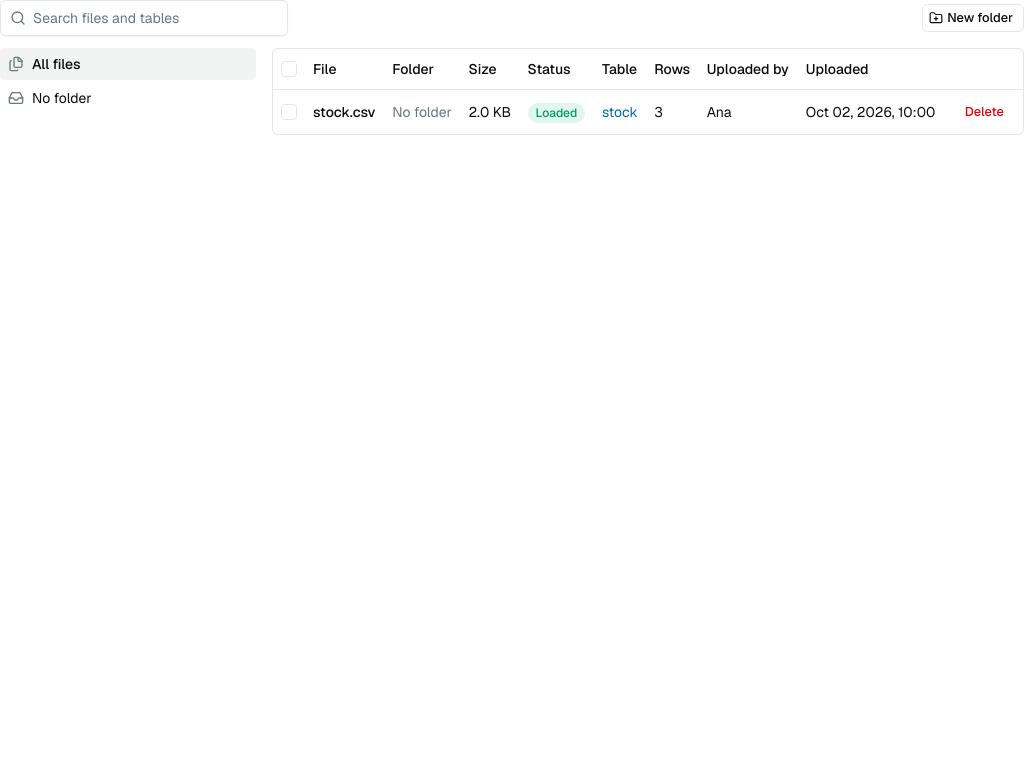
Test: UploadsPanel › asks first, says the table stays, and deletes only after the confirmation
The image size is (1024, 768).
Check: the text "stock.csv" is shown, box [305, 89, 384, 134]
Click the button with aria-label "Delete stock.csv": (984, 112) [954, 98, 1015, 126]
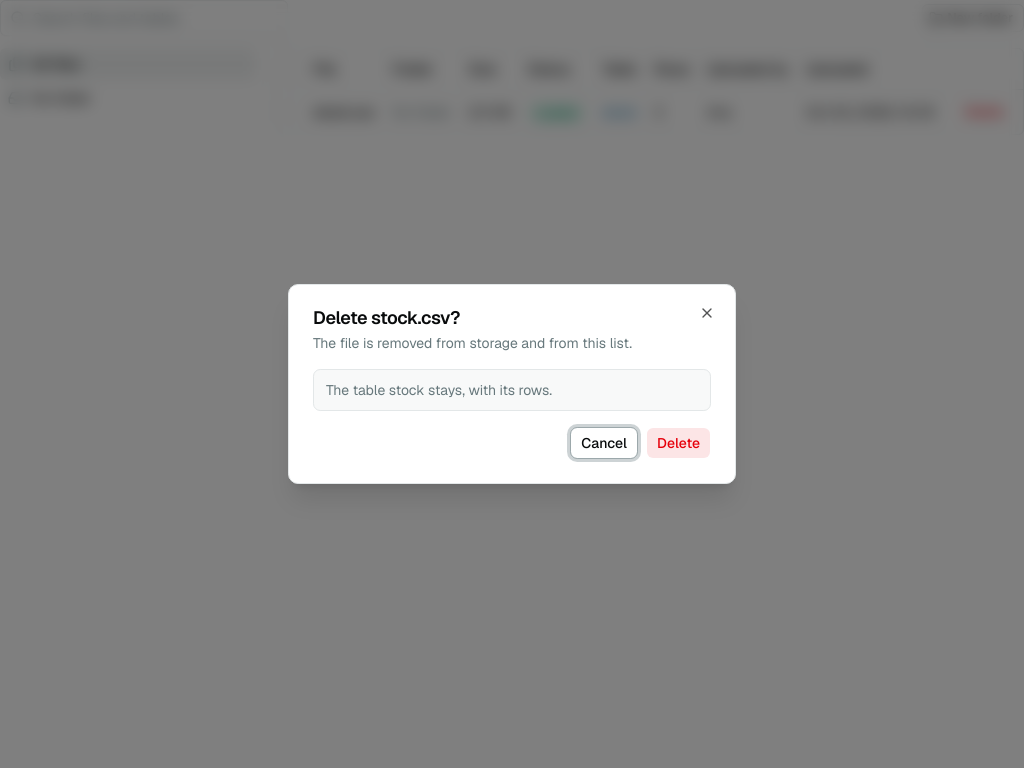
Check: the heading "Delete stock.csv?" is shown, box [313, 306, 460, 329]
Check: the text "The table stock stays, with its rows." is shown, box [313, 369, 711, 411]
Click the button "Delete": (678, 443) [646, 427, 711, 459]
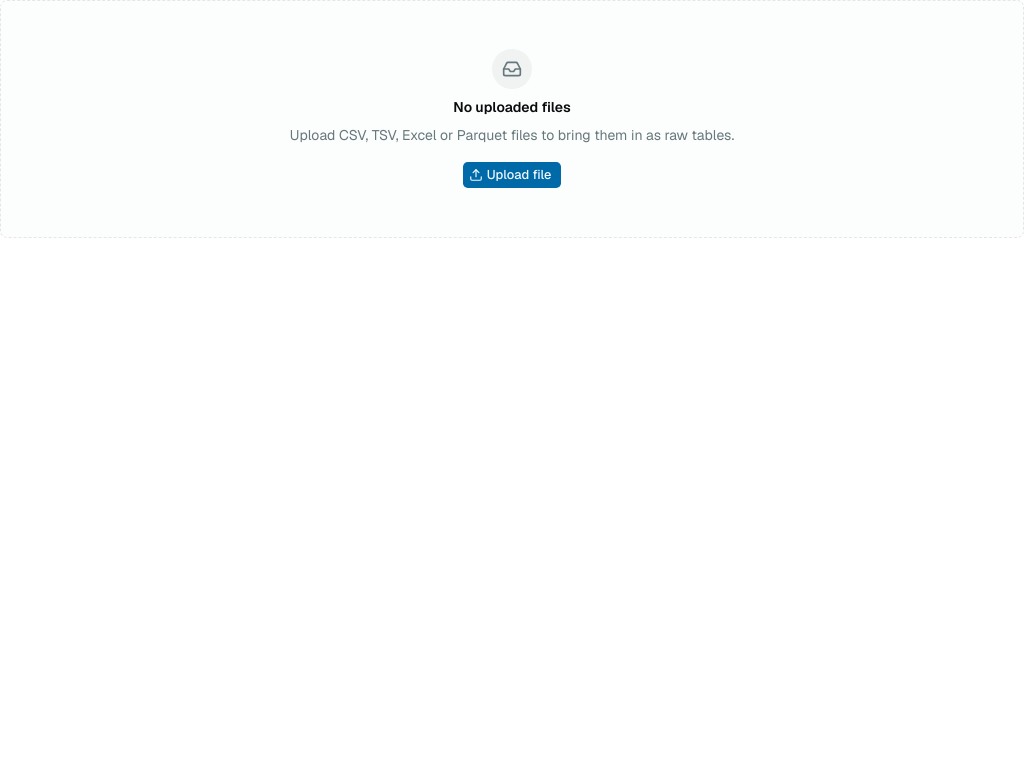
Check: the text "No uploaded files" is shown, box [453, 97, 571, 117]
